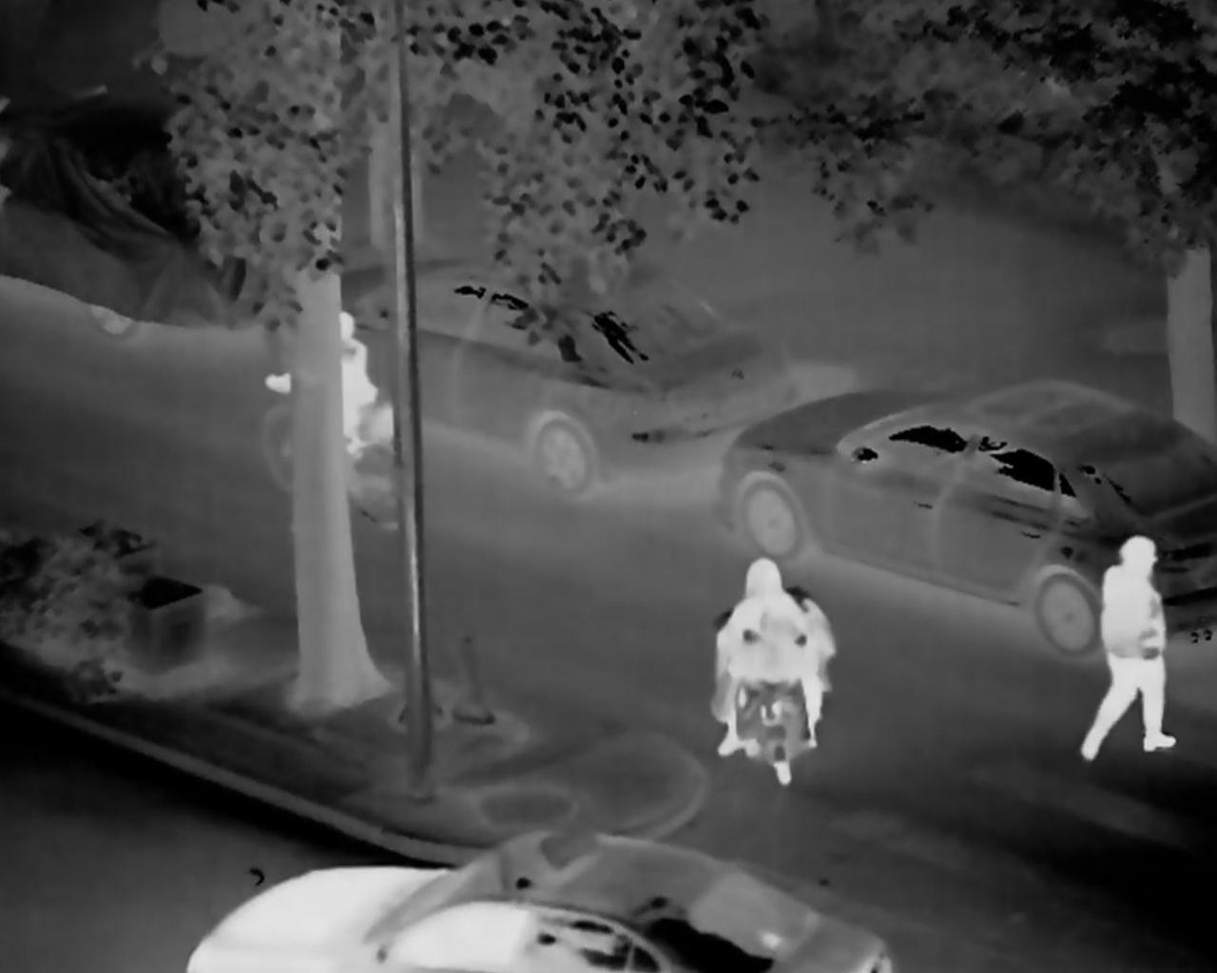person: (706, 558, 829, 773), (1073, 531, 1177, 765)
